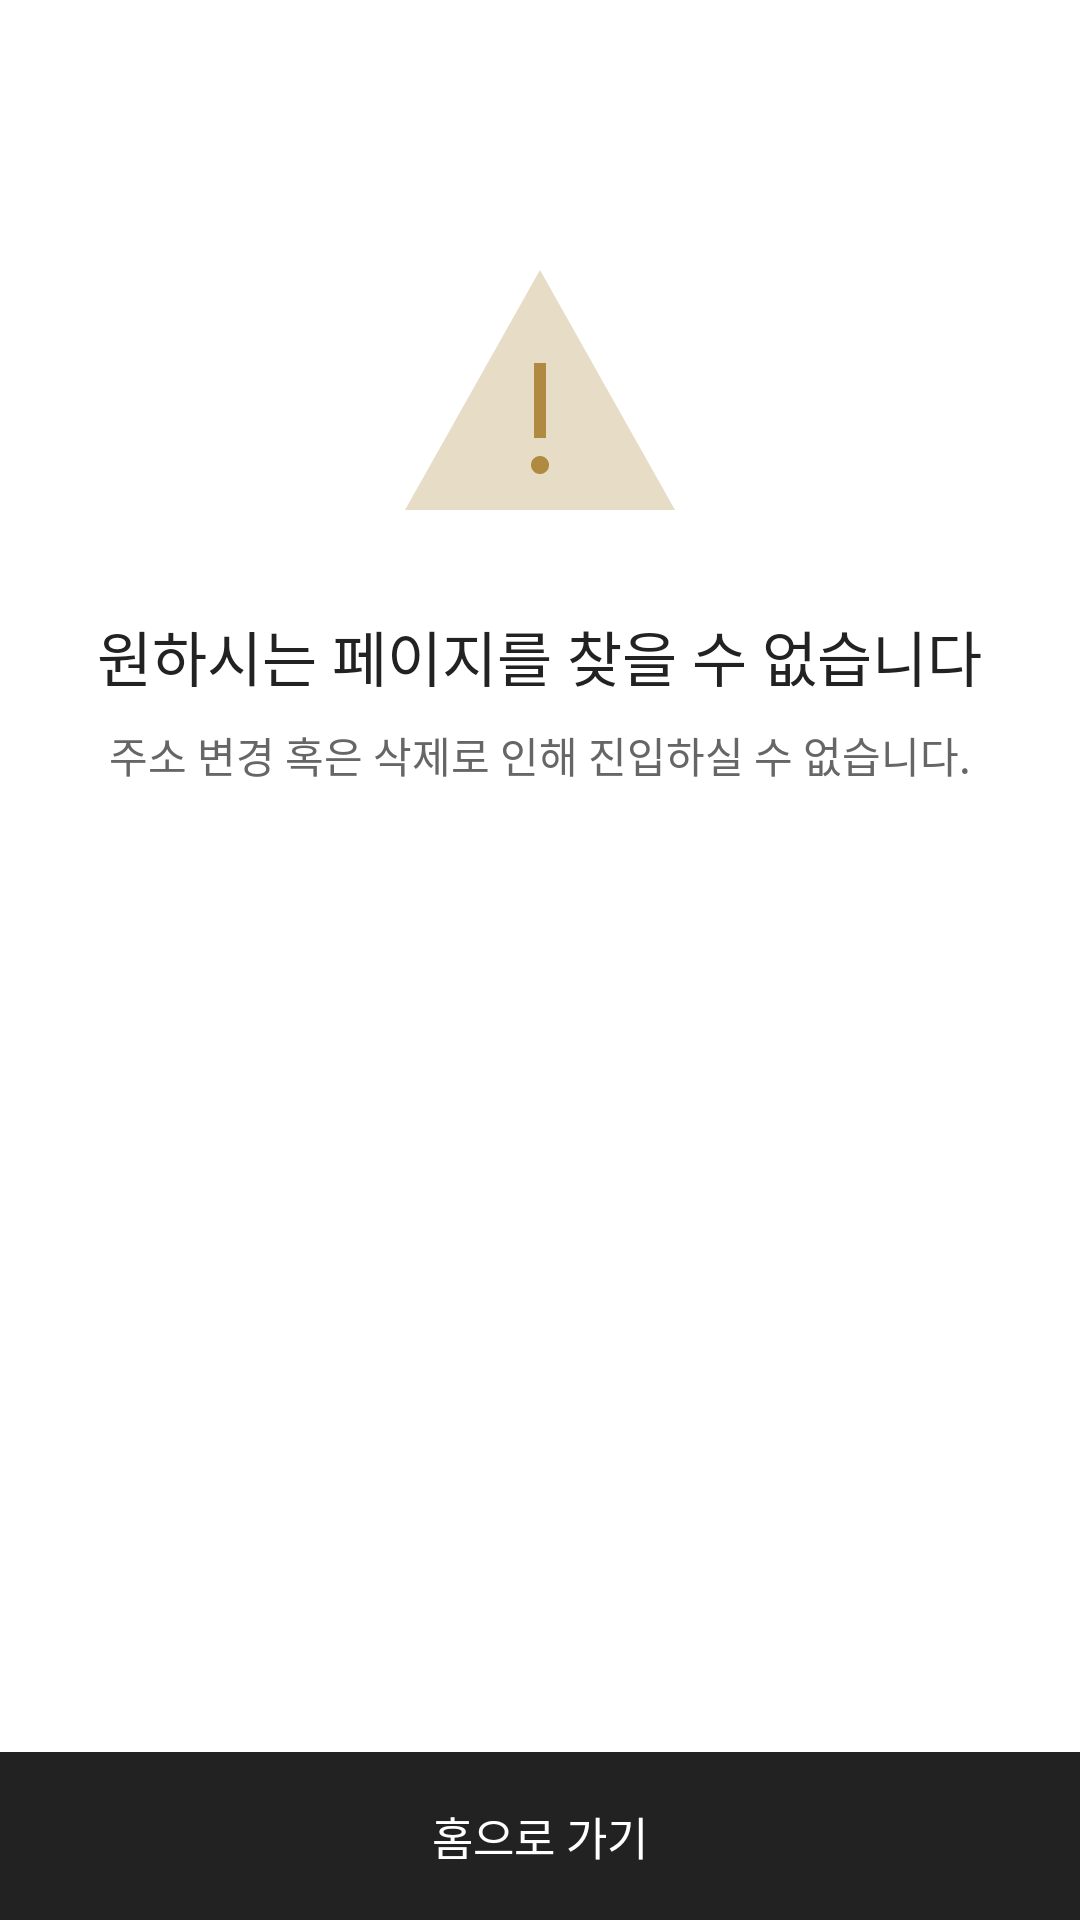

Named icons in this screenshot (1080x1920) and their bounding boxes, (x1, y1, x2, y2):
error: (405, 271, 675, 510)
